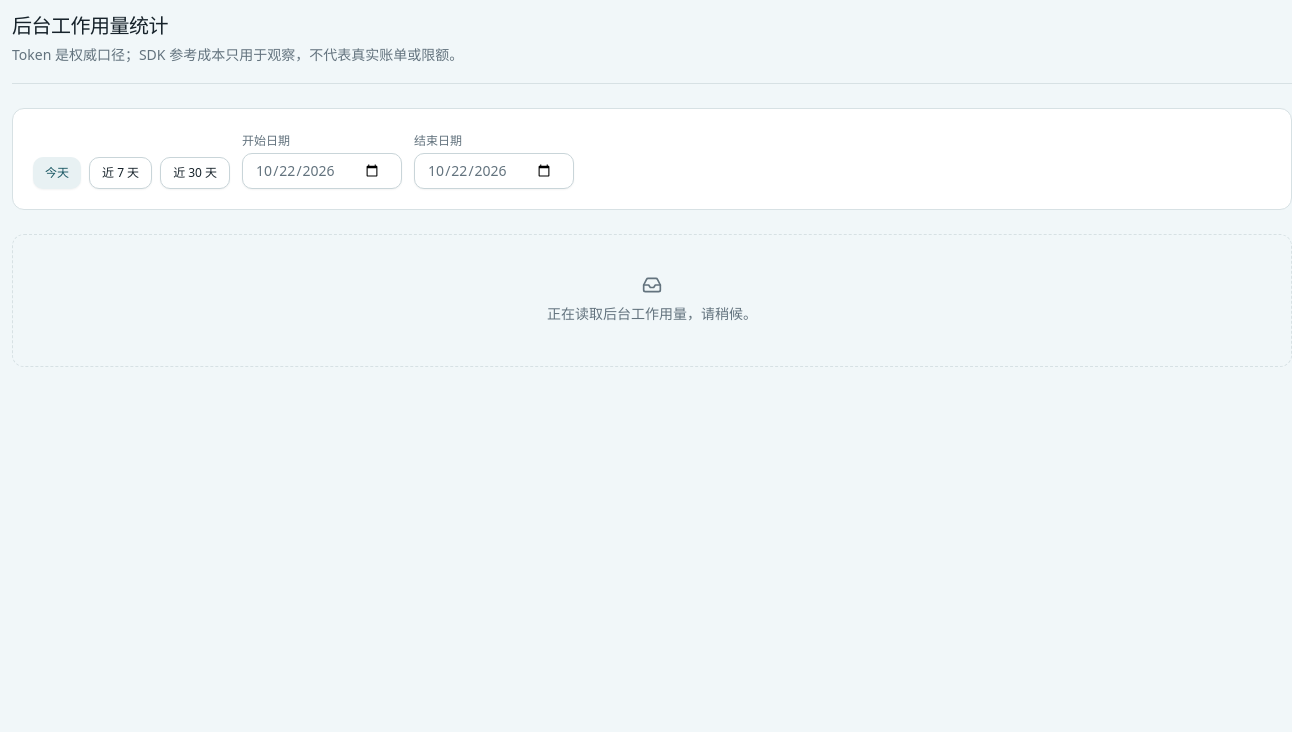
it: background agent usage page › 切换时间范围时取消过期请求
Click the button "近 7 天" at {"x": 121, "y": 173}, box [89,157,152,189]
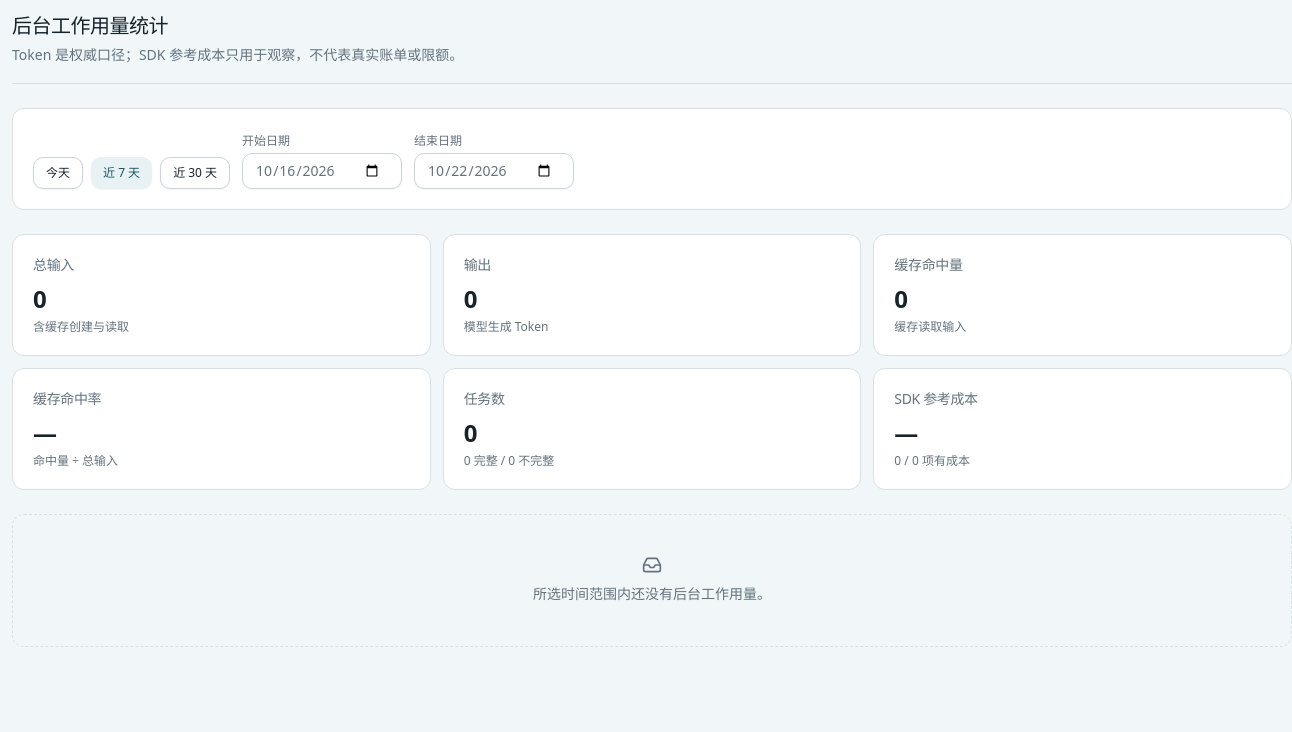
Expected: the text "所选时间范围内还没有后台工作用量。" is shown, [533,583,771,606]
